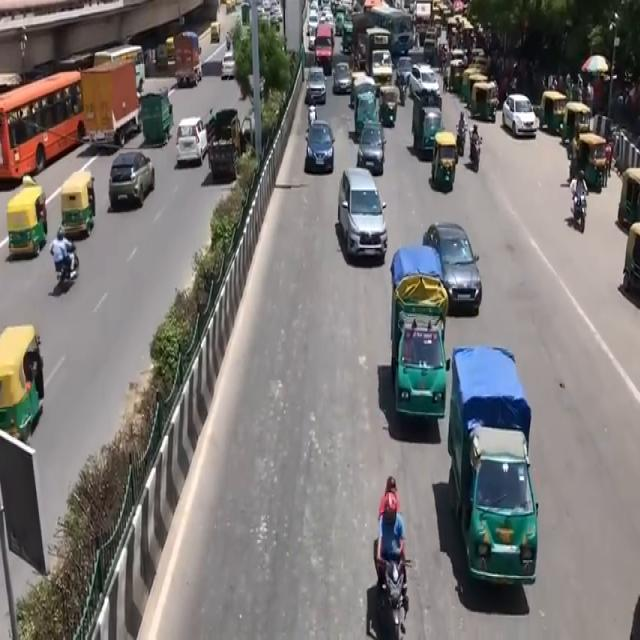BUS: (0, 74, 82, 188)
MOTORCYCLE: (376, 554, 407, 640), (573, 192, 587, 234)
TRUCK: (446, 349, 536, 611), (394, 251, 449, 437), (81, 62, 140, 154), (174, 34, 203, 90)
